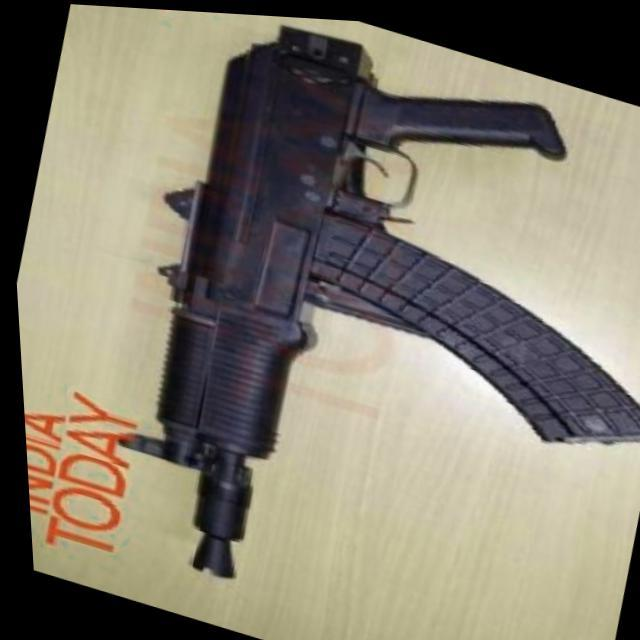weapon: (62, 3, 640, 640)
